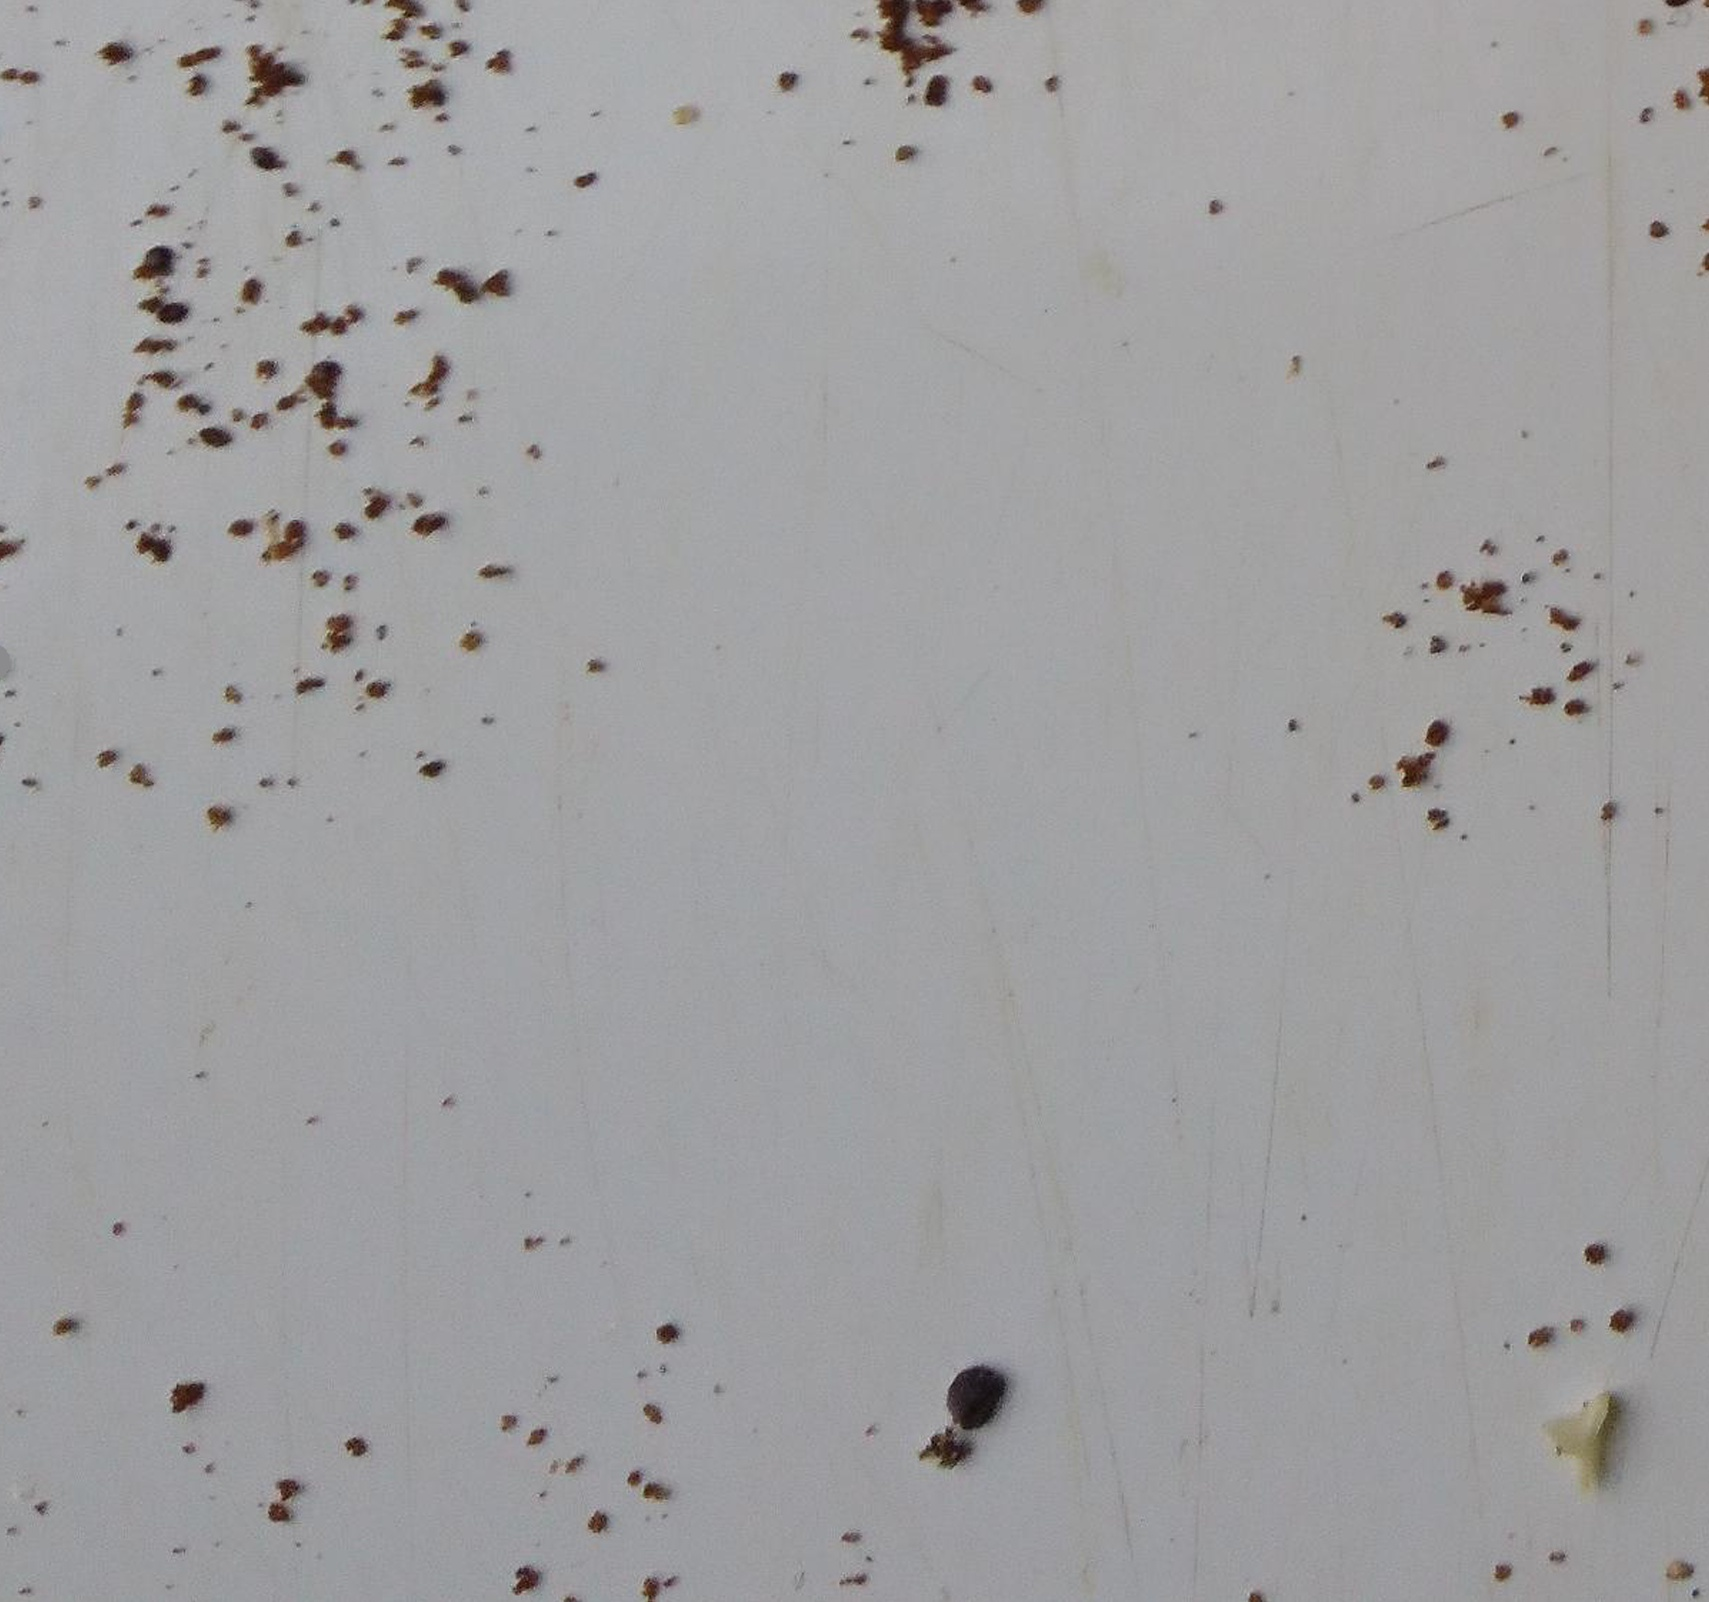Varroa: (136, 236, 179, 279), (242, 136, 285, 178), (203, 419, 239, 455), (157, 300, 184, 330), (1421, 720, 1449, 745)
